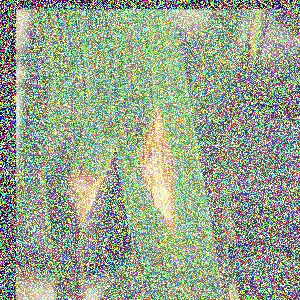Brown_Spot: (134, 97, 193, 243), (48, 164, 112, 233)
